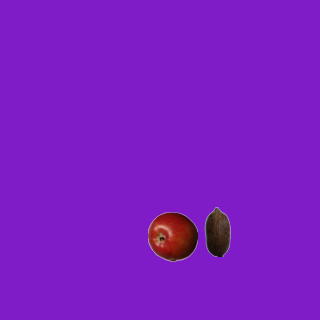Apple Braeburn: (147, 211, 197, 261)
Nut Pecan: (192, 206, 242, 256)
